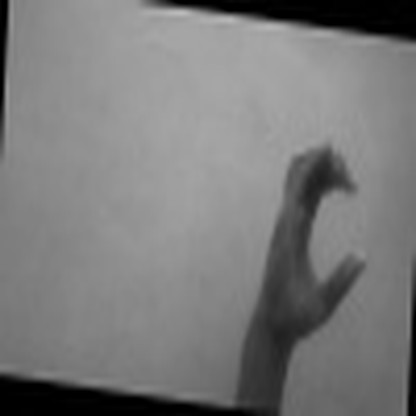c: (265, 136, 365, 339)
